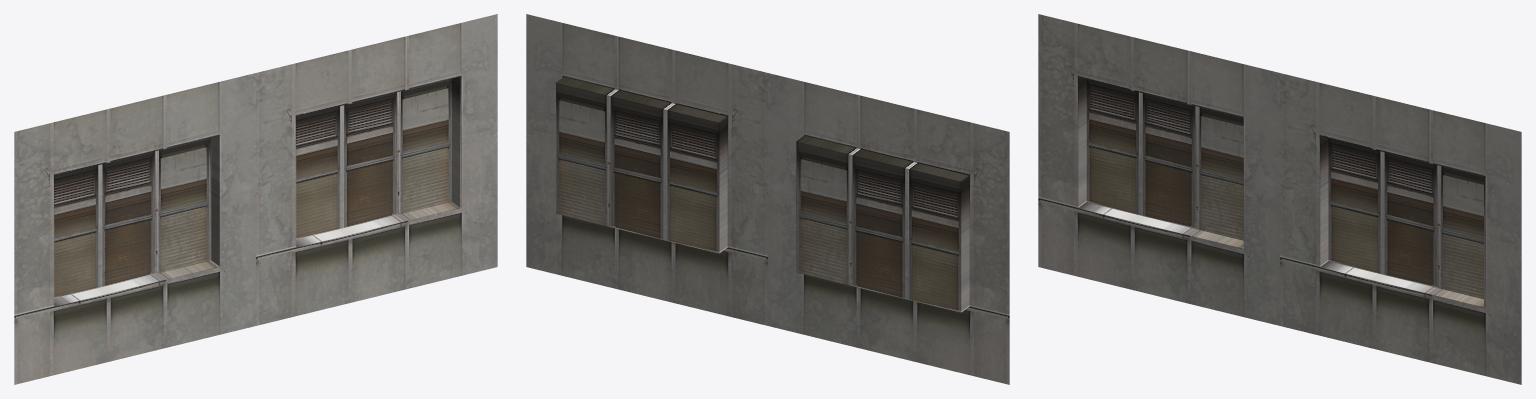
Rendered from CT_Building_Piece_09.fbx.
3 views of the same model, side by side, from view 1: azimuth 30°, elevation 25°; view 2: azimuth 150°, elevation 25°; view 3: azimuth 330°, elevation 25° (orthographic).
Visible parts, largest first — view 1: CT_Building_Piece_09; view 2: CT_Building_Piece_09; view 3: CT_Building_Piece_09.
Part boxes in pixels (x1=…): CT_Building_Piece_09: x1=14, y1=14, x2=497, y2=384; CT_Building_Piece_09: x1=526, y1=14, x2=1009, y2=384; CT_Building_Piece_09: x1=1038, y1=14, x2=1521, y2=384.
Bounding box in the file's own units: 512 × 256 × 15.
